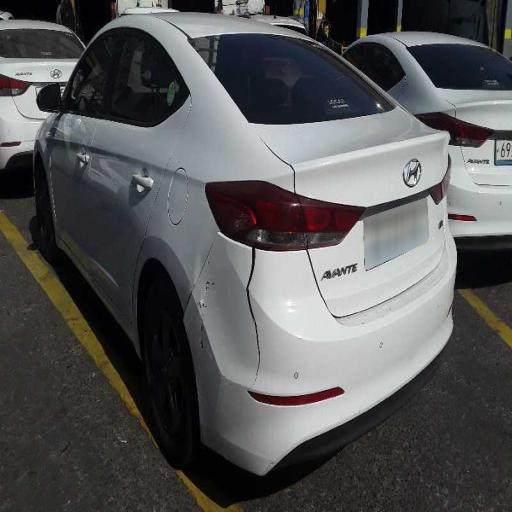broken: (202, 144, 303, 446)
